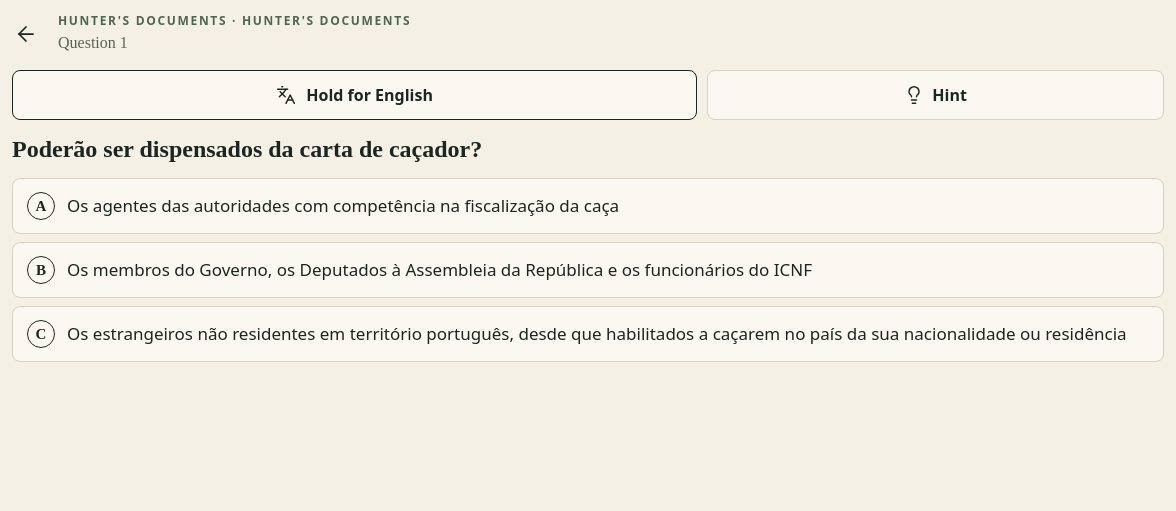
PracticePage › records the answer, marks the chosen and correct options, locks them, and Next draws another question
Click the 3rd button at (588, 206), box [12, 178, 1164, 234]
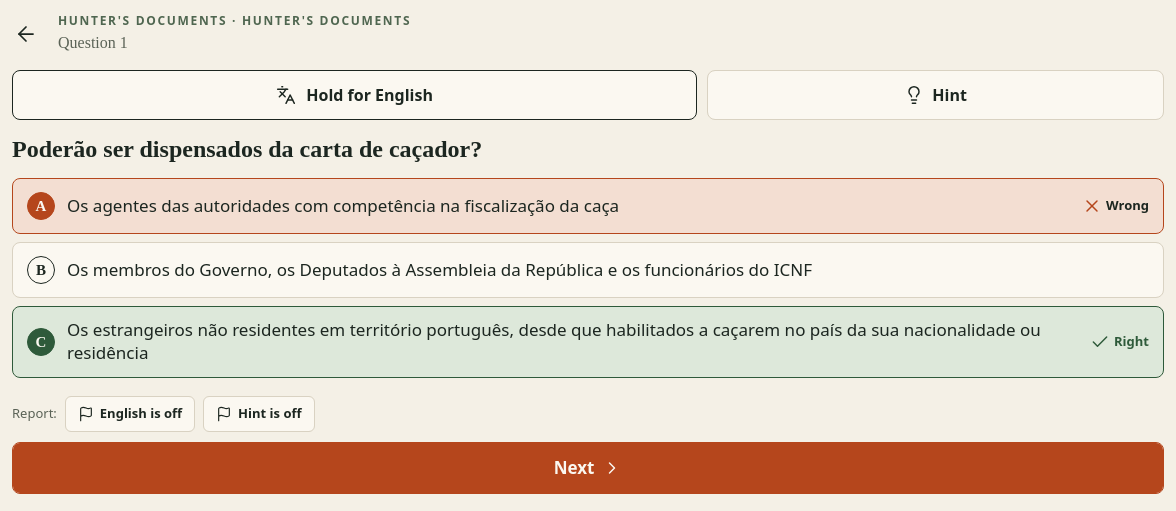
Result: the text "Wrong" is shown at [1106, 197, 1149, 215]
Result: the 3rd button is disabled at [12, 178, 1164, 234]
Result: the 5th button is disabled at [12, 306, 1164, 378]
Click the button "Next" at (588, 468), box [12, 442, 1164, 494]
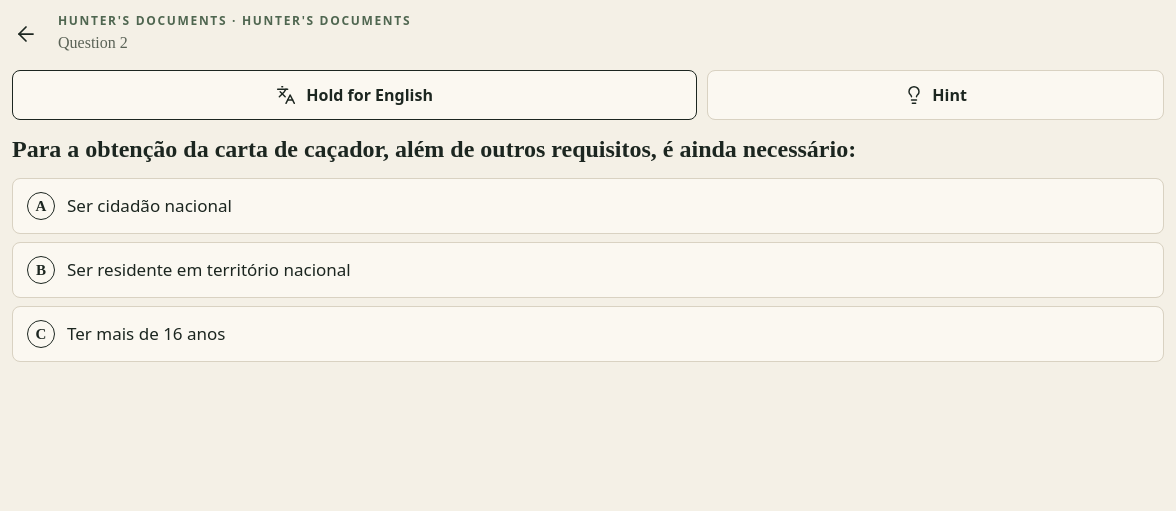
Result: the button "Next" is gone
Result: the button "A Ser cidadão nacional" is enabled at [12, 178, 1164, 234]
Result: the button "B Ser residente em território nacional" is enabled at [12, 242, 1164, 298]
